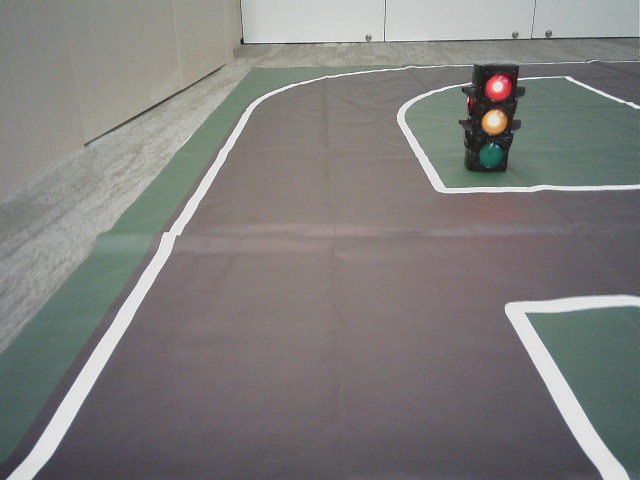red: (474, 68, 511, 169)
